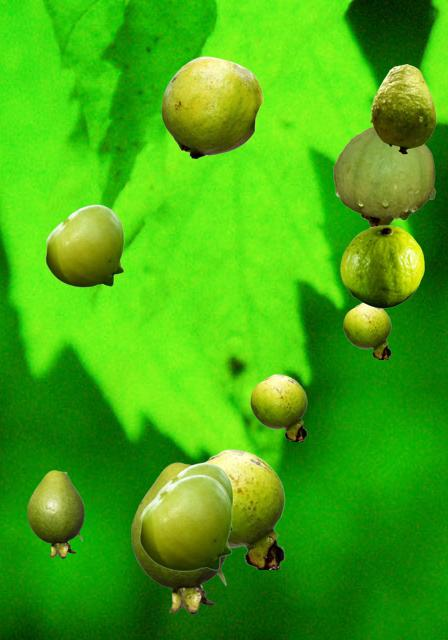guava: (131, 462, 226, 613), (161, 56, 262, 158), (333, 126, 434, 226), (204, 449, 284, 568), (139, 474, 231, 570), (340, 225, 423, 307), (45, 204, 123, 286), (370, 64, 435, 153), (155, 462, 232, 531), (27, 470, 83, 557), (250, 374, 306, 440), (343, 303, 390, 358)
